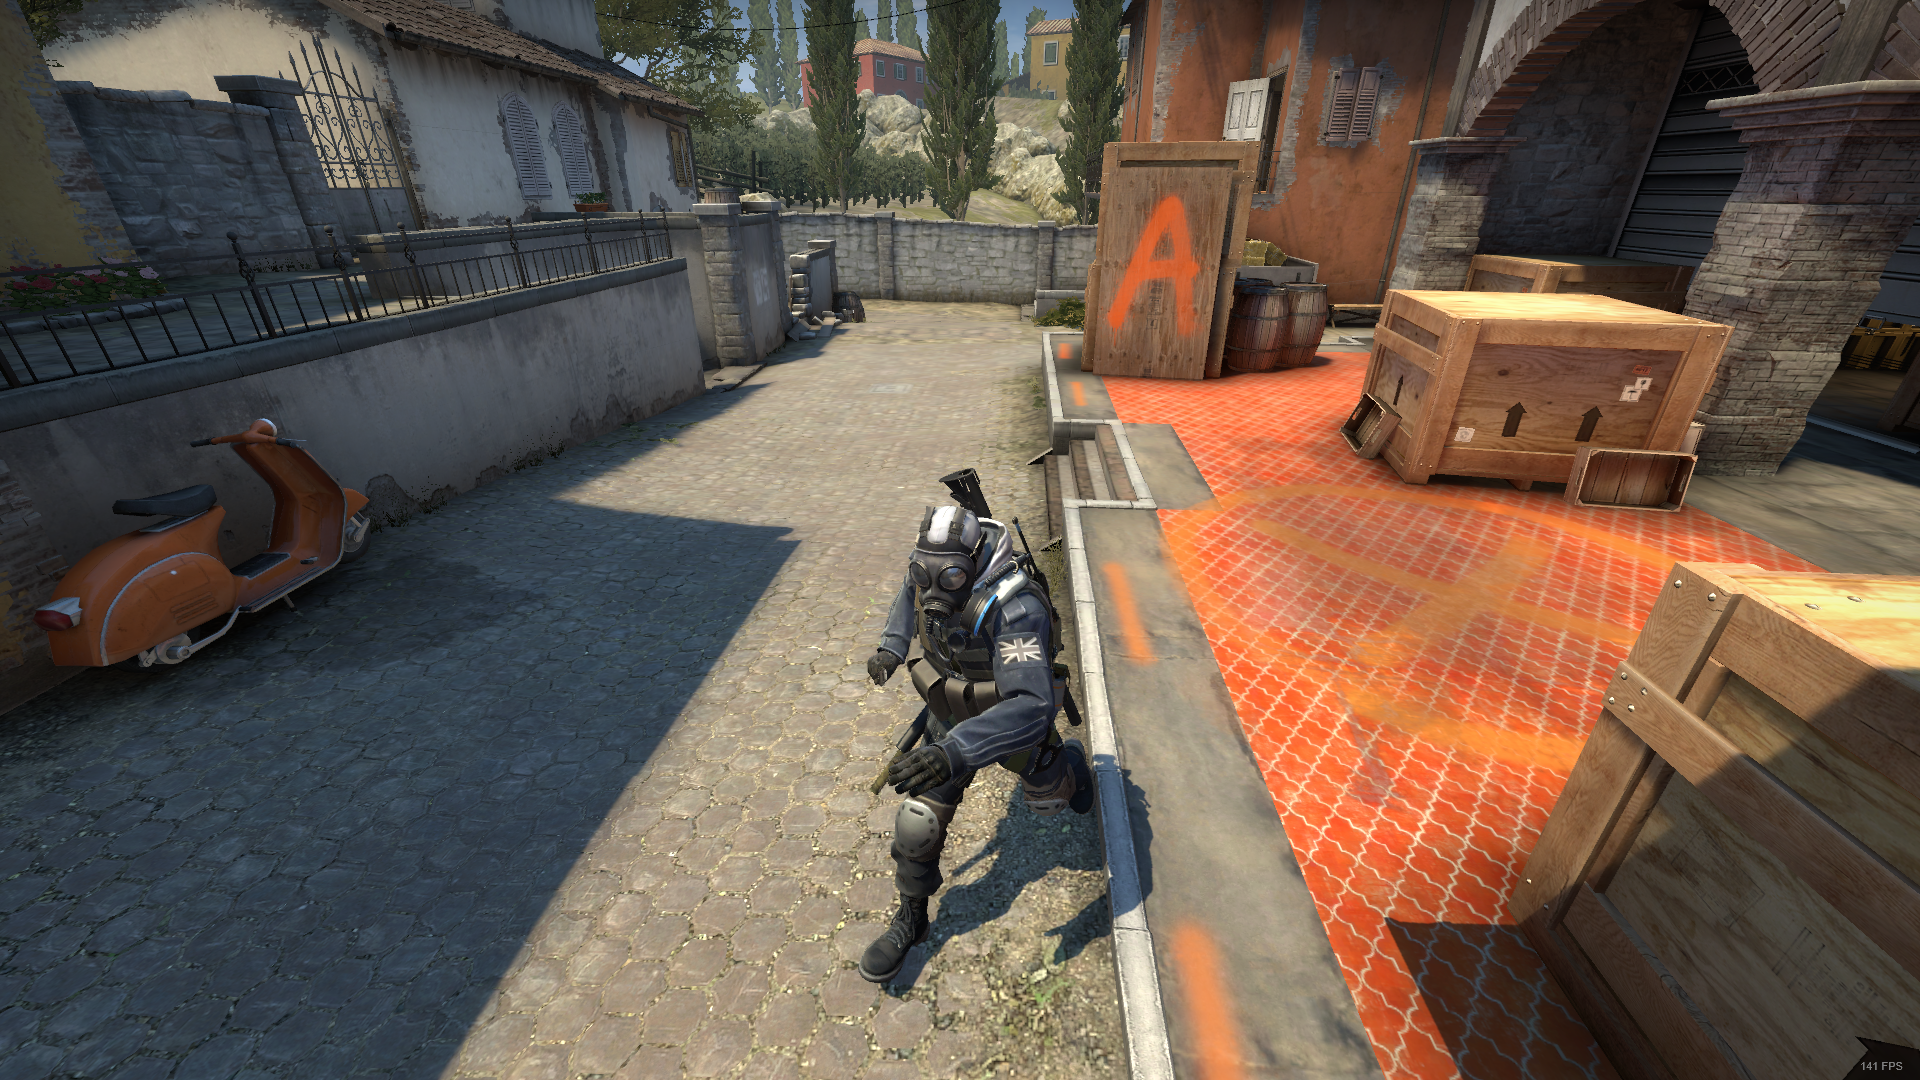ct: (862, 506, 1095, 971)
